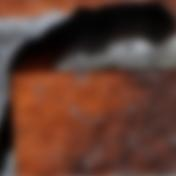brick: (12, 67, 175, 175)
broken_brick: (0, 0, 134, 16), (161, 0, 175, 23)
crack: (0, 0, 175, 174)
